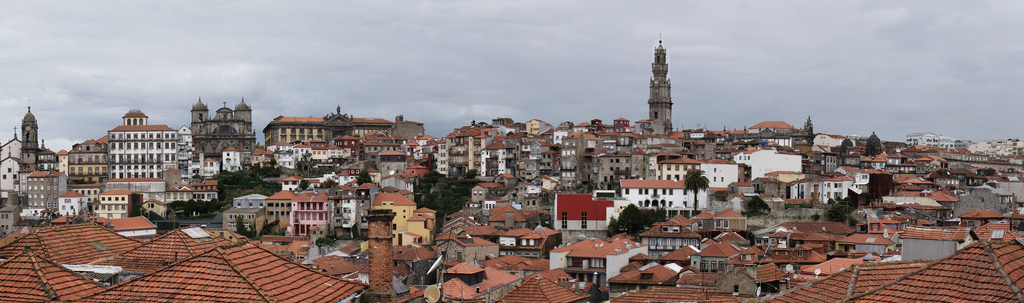clerigos: (645, 33, 674, 132)
